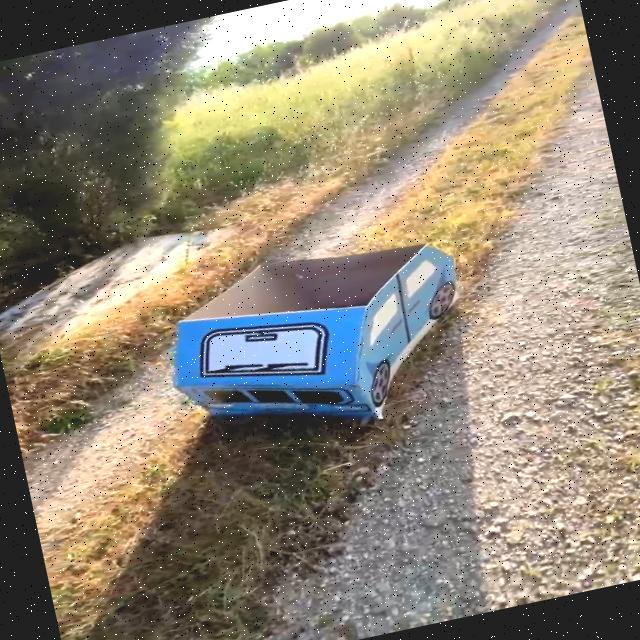blue_car: (95, 185, 535, 495)
